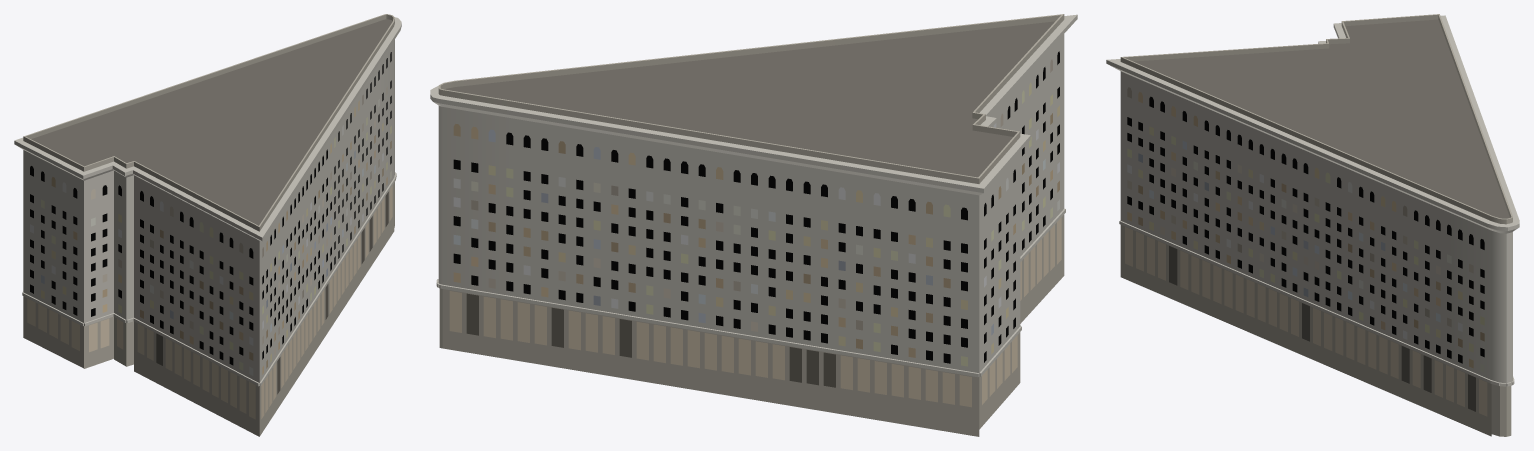
Rendered from phelan_lod1.glb.
The picture shows the model from 3 angles, left to right: view 1: azimuth 30°, elevation 25°; view 2: azimuth 150°, elevation 25°; view 3: azimuth 270°, elevation 25°; orthographic projection. The views are drawn at different scales.
Parts seen in each view (by area): view 1: L1_stone, L1_roof, L1_win, L1_shop; view 2: L1_stone, L1_roof, L1_win, L1_shop; view 3: L1_stone, L1_roof, L1_win, L1_shop.
Boxes of the visible parts, x1,y1,x2,y2 form: L1_stone: (14, 14, 401, 436); L1_roof: (31, 19, 392, 225); L1_win: (30, 52, 391, 375); L1_shop: (27, 185, 392, 419); L1_stone: (430, 14, 1077, 436); L1_roof: (444, 21, 1054, 177); L1_win: (453, 51, 1059, 366); L1_shop: (449, 217, 1061, 407); L1_stone: (1106, 14, 1519, 436); L1_roof: (1134, 19, 1509, 218); L1_win: (1127, 87, 1484, 372); L1_shop: (1125, 227, 1487, 416).
Bounding box in the file's own units: 94.8 × 45.92 × 78.19.
